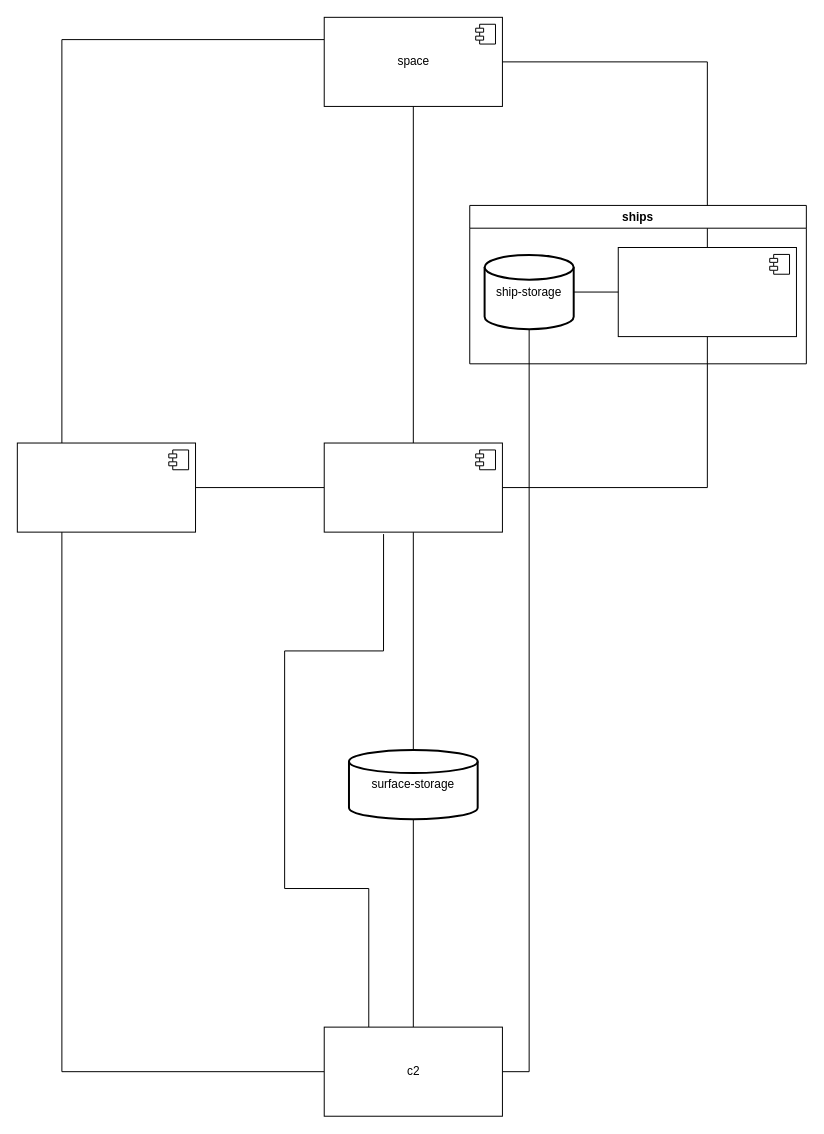
This 824x1134 diagram has some shape labels left out. Each missing label, with the box of its shape:
crossroad: (16, 442, 196, 532)
ship: (617, 247, 796, 337)
surface: (323, 442, 502, 532)
